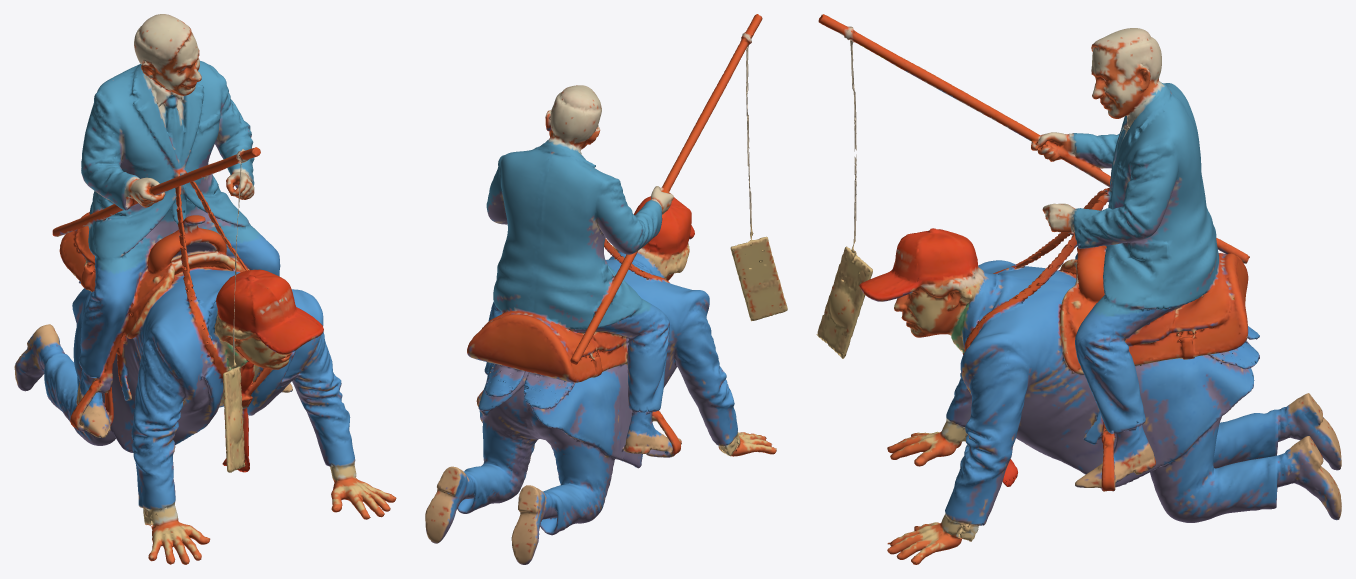
File: trump.glb
The picture shows the model from 3 angles, left to right: view 1: azimuth 30°, elevation 25°; view 2: azimuth 150°, elevation 25°; view 3: azimuth 270°, elevation 25°; orthographic projection. The views are drawn at different scales.
Parts seen in each view (by area): view 1: trump; view 2: trump; view 3: trump.
Part boxes in pixels (<box>): trump: <box>14,14,396,564</box>; trump: <box>425,14,787,564</box>; trump: <box>816,14,1341,564</box>.
Size of the model in its own units: 1.1 by 1.89 by 1.92.
